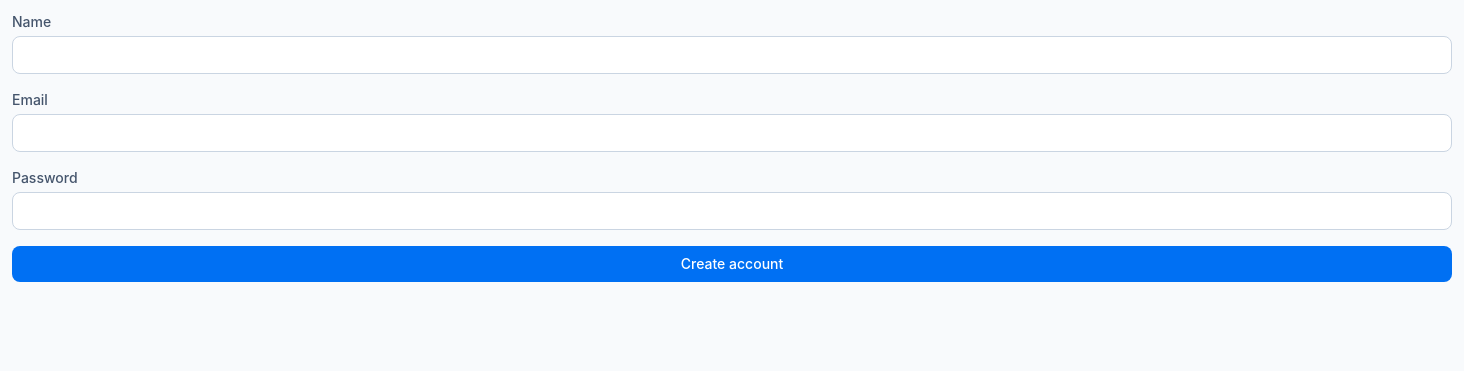
Scenario: RegisterForm › shows the field errors on an empty submit, sends nothing and focuses Name
The image size is (1464, 371).
Click the button "Create account". click: coordinates (732, 264)
box: [12,246,1452,282]
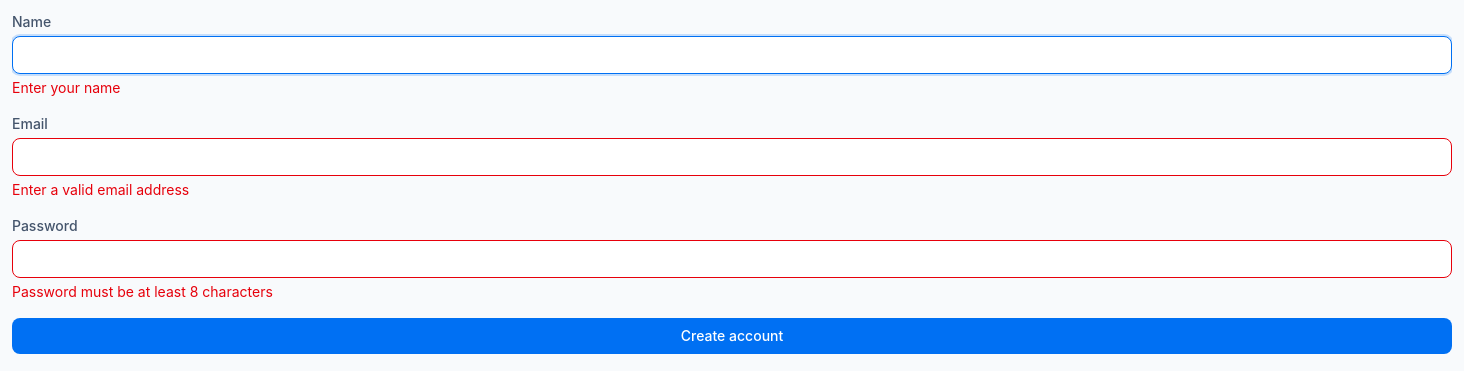
expect the field labelled "Email" is marked as invalid: met, box [12,138,1452,176]
expect the password field labelled "Password" is marked as invalid: met, box [12,240,1452,278]
